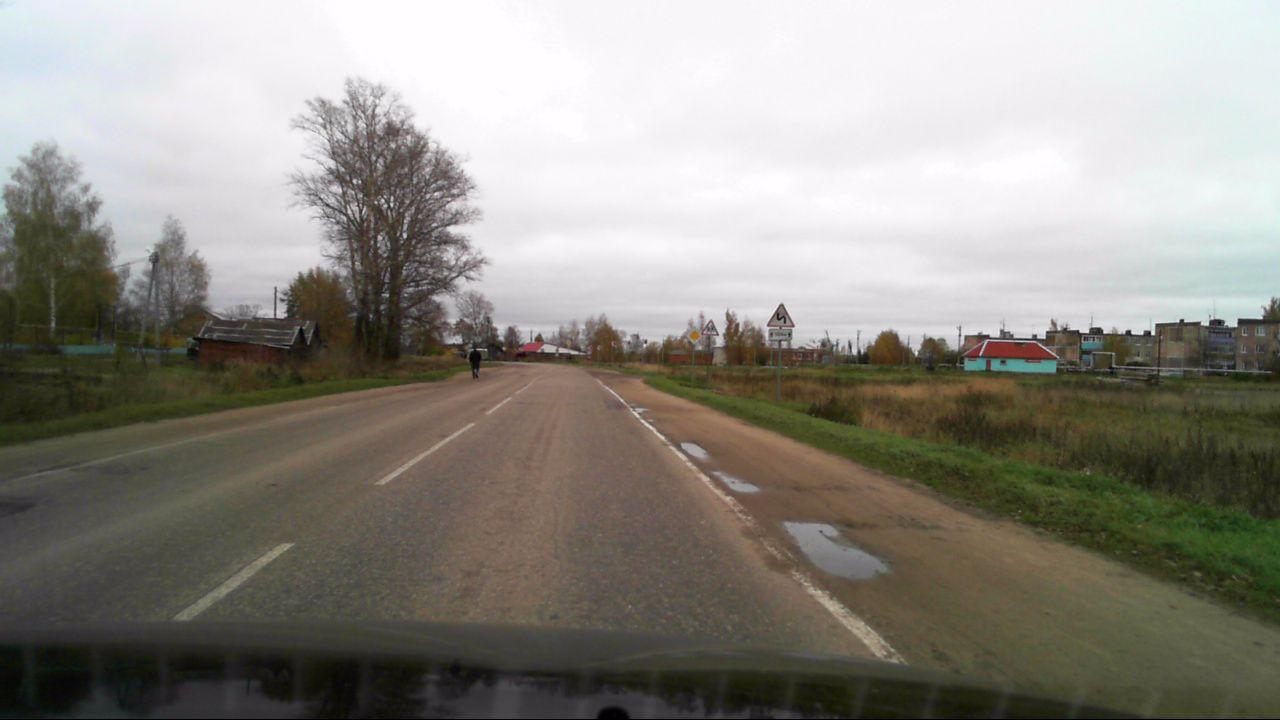1_12_2: (766, 302, 794, 327)
1_23: (701, 319, 719, 336)
2_1: (686, 328, 701, 344)
8_2_1: (767, 328, 793, 341)
